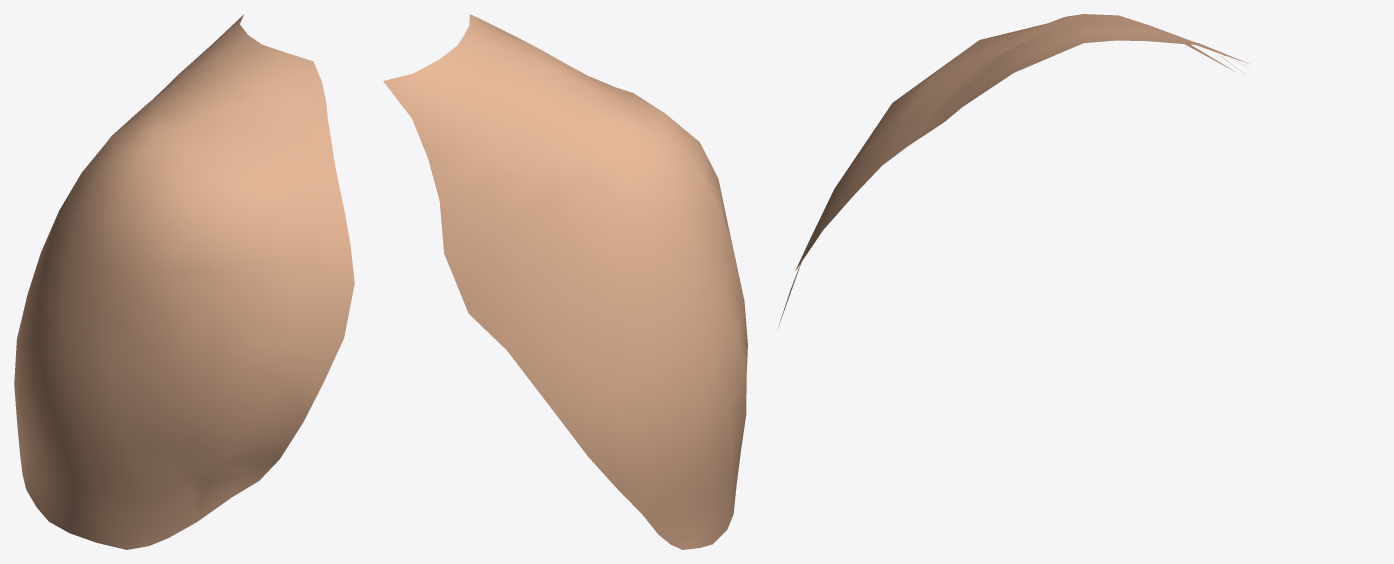
The model's file is deltoid-region-r.glb.
3 renders of one model, left to right at view 1: azimuth 30°, elevation 25°; view 2: azimuth 150°, elevation 25°; view 3: azimuth 270°, elevation 25°, orthographic. The views are drawn at different scales.
Parts seen in each view (by area): view 1: Deltoid region.r; view 2: Deltoid region.r; view 3: Deltoid region.r.
Boxes of the visible parts, bbox=[...] form: Deltoid region.r: bbox=[14, 14, 354, 549]; Deltoid region.r: bbox=[383, 14, 747, 549]; Deltoid region.r: bbox=[777, 14, 1250, 329].
Size of the model in its own units: 0.1068 by 0.1628 by 0.1338.
